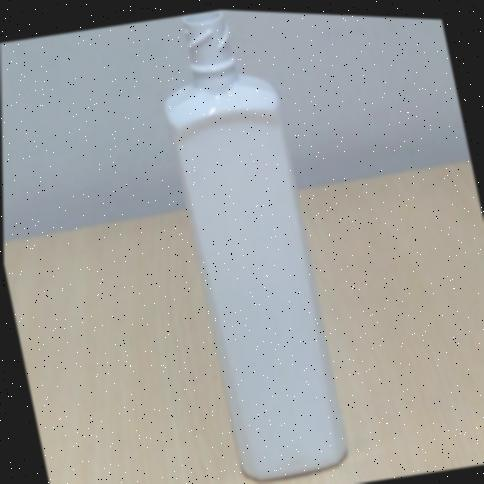bottle: (164, 10, 346, 478)
